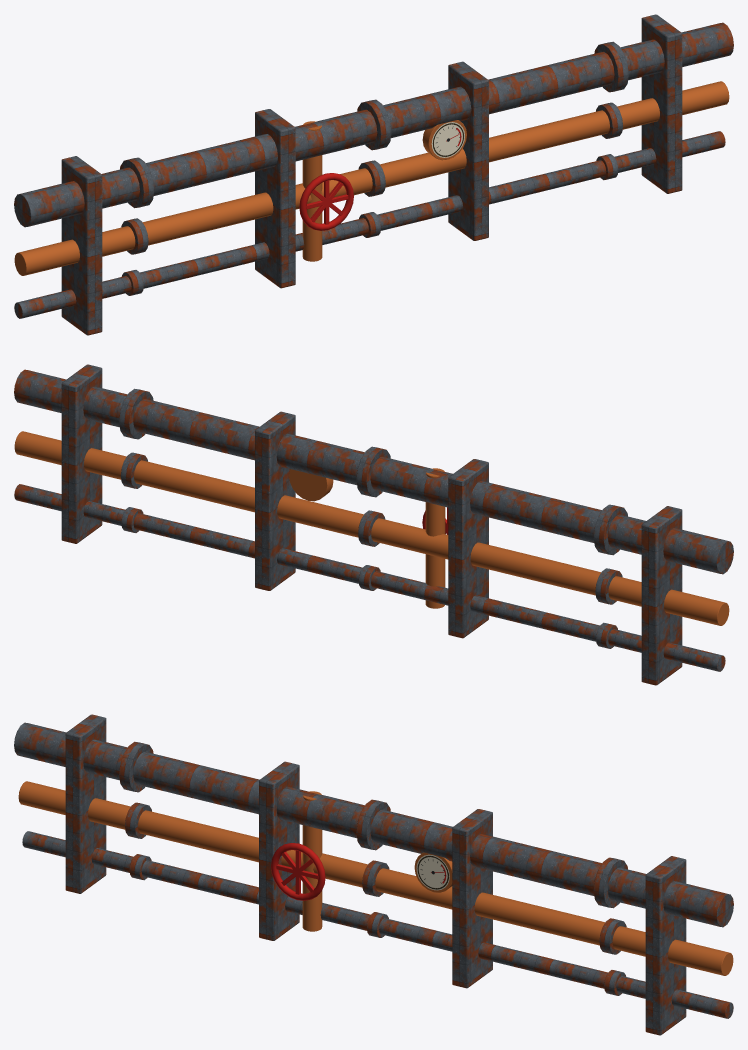
File: wall_pipes.glb
The picture shows the model from 3 angles, top to bottom: view 1: azimuth 30°, elevation 25°; view 2: azimuth 150°, elevation 25°; view 3: azimuth 330°, elevation 25°; orthographic projection.
Visible parts, largest first — view 1: WallPipes, WallGaugeDial; view 2: WallPipes; view 3: WallPipes, WallGaugeDial.
Boxes of the visible parts, x1,y1,x2,y2 form: WallPipes: (14,14,733,335); WallGaugeDial: (431,122,464,157); WallPipes: (14,364,733,685); WallPipes: (14,714,733,1035); WallGaugeDial: (416,854,449,890).
Bounding box in the file's own units: 4 × 0.86 × 0.3071.
Materials: 4 (2 with a texture image).
